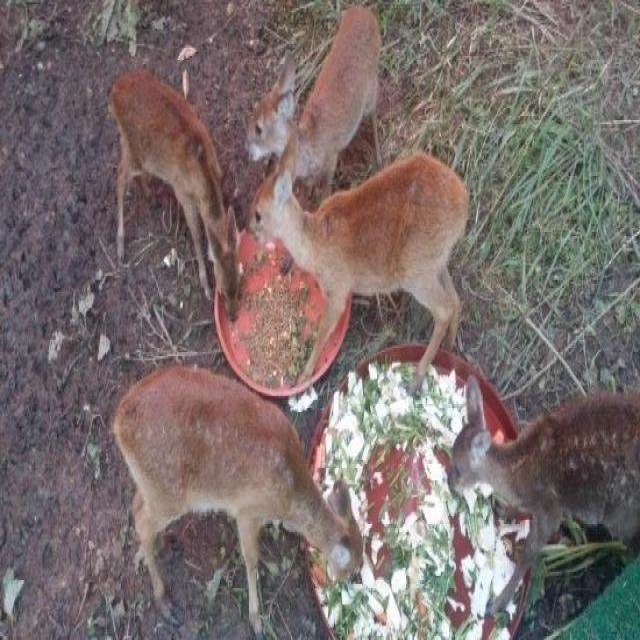deer: (104, 369, 374, 640), (248, 148, 482, 391), (442, 384, 640, 640), (90, 75, 244, 348), (243, 11, 397, 162)
